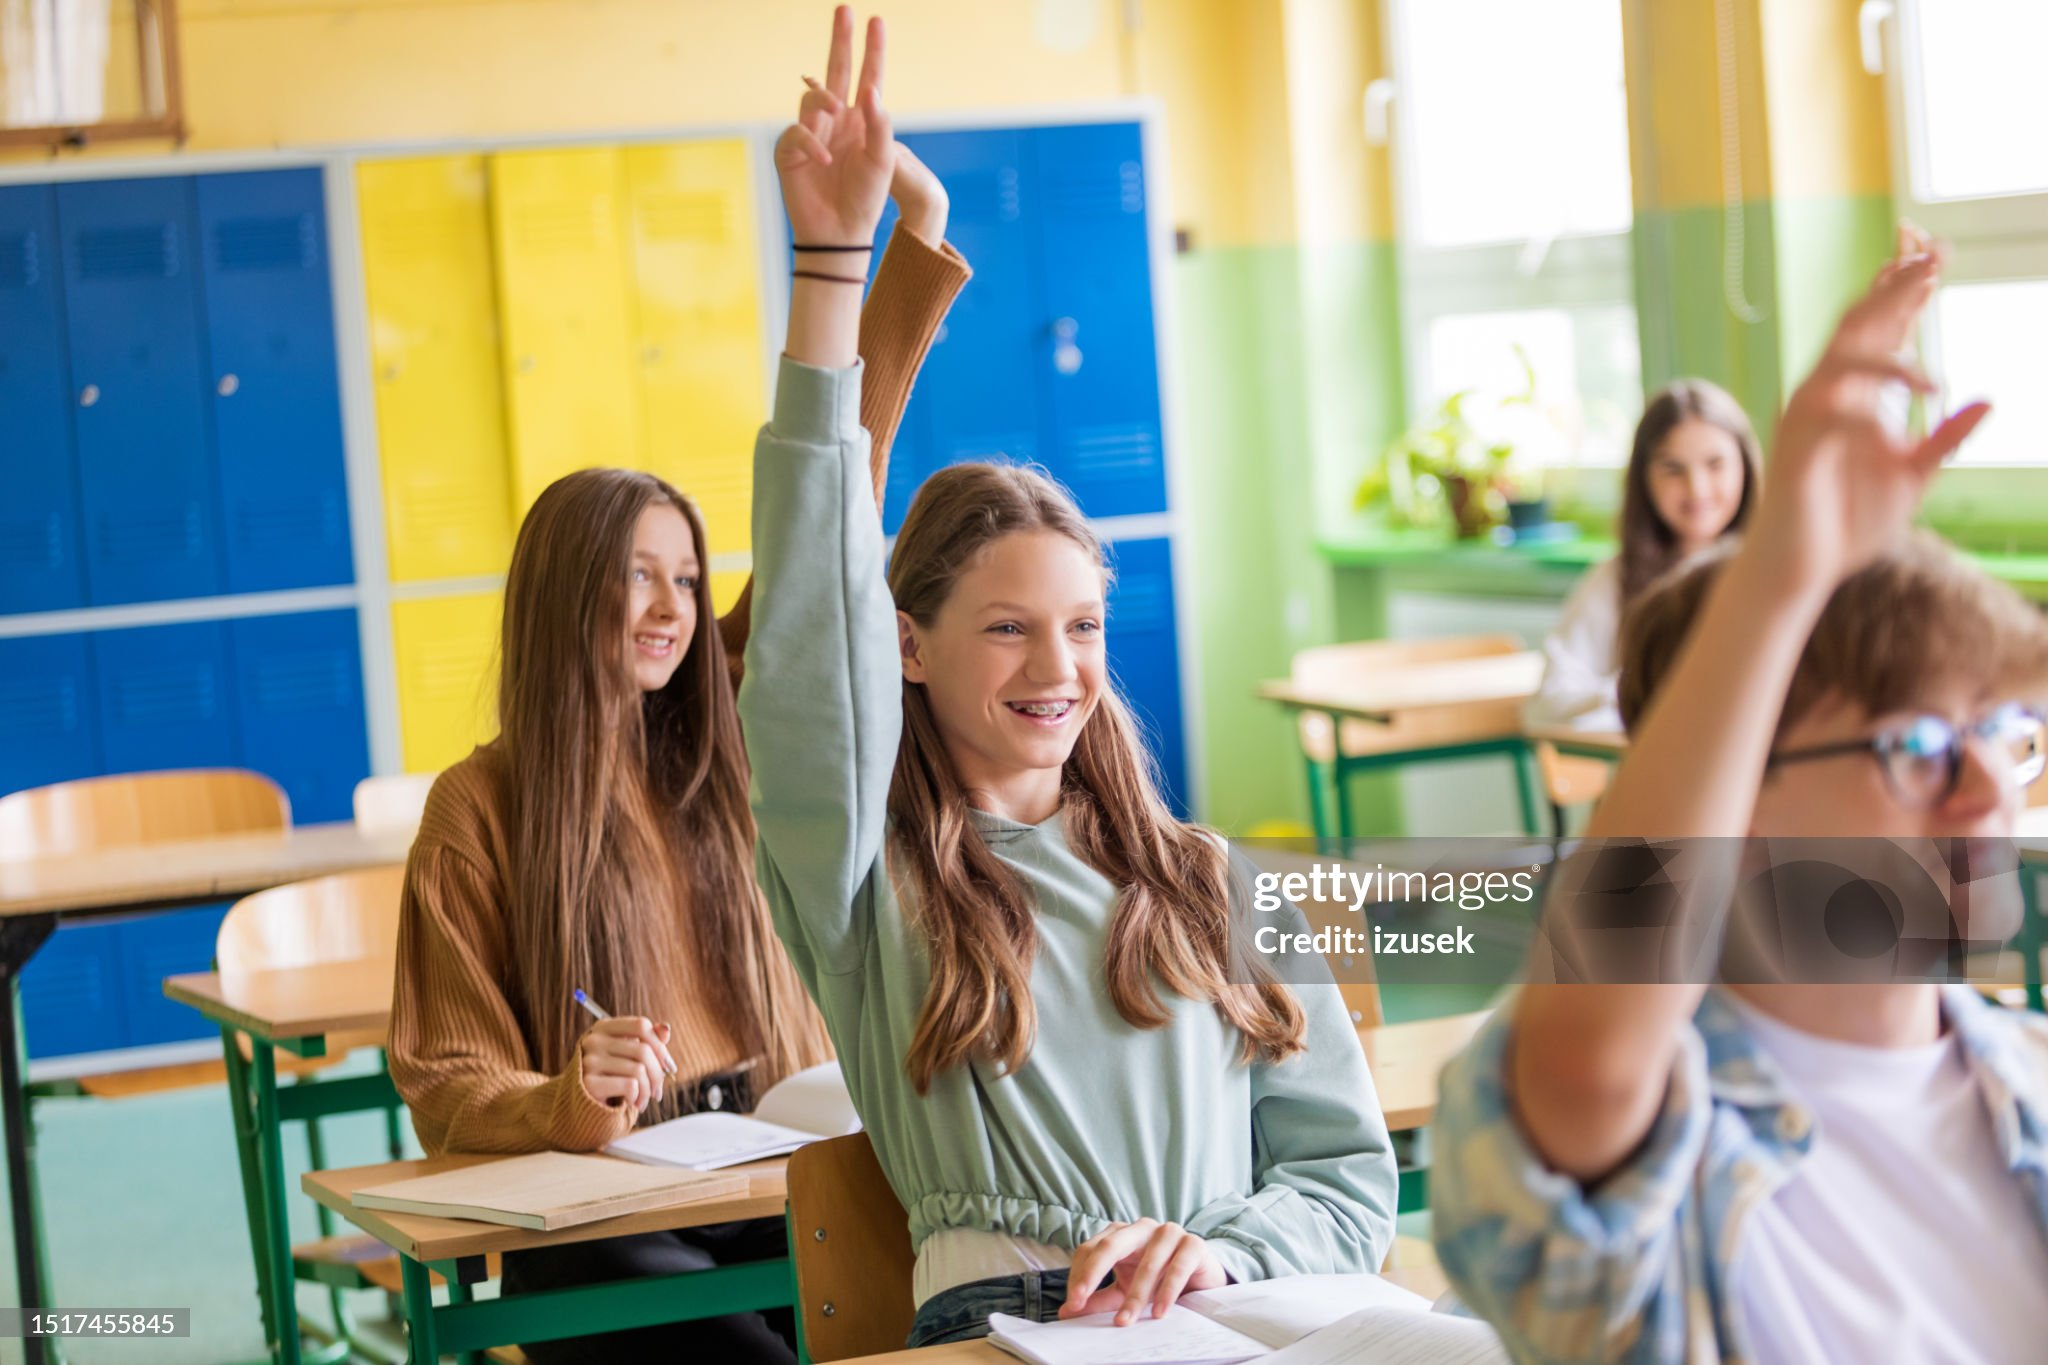entre-50-75-porcento: (362, 2, 2046, 1350)
